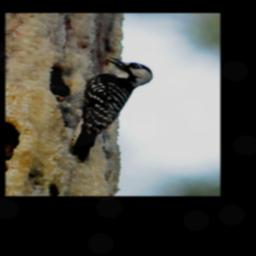Woodpecker: (56, 56, 155, 163)
